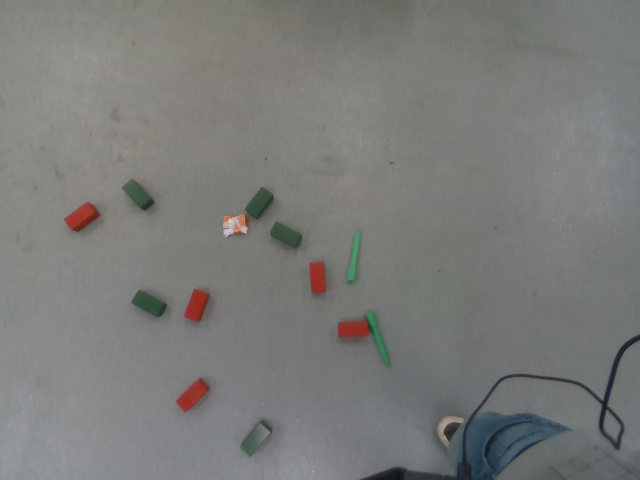Probe: (362, 309, 392, 371), (344, 227, 365, 284)
